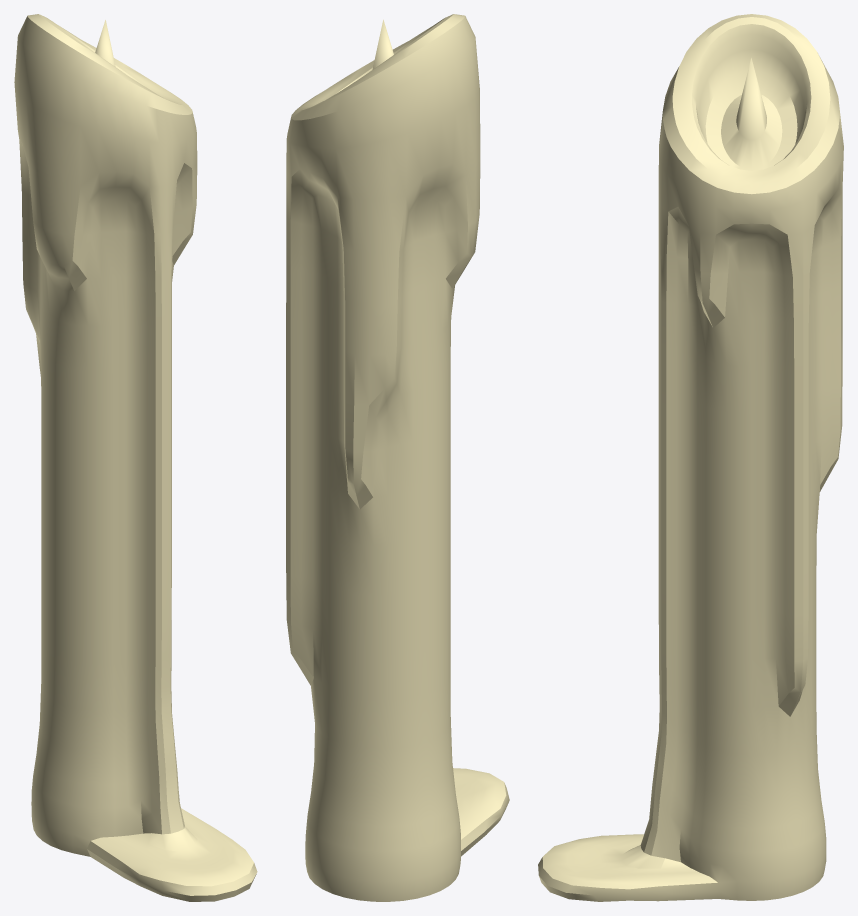
The model's file is large candle.fbx.
3 renders of one model, left to right at view 1: azimuth 30°, elevation 25°; view 2: azimuth 150°, elevation 25°; view 3: azimuth 270°, elevation 25°, orthographic. The views are drawn at different scales.
Visible parts, largest first — view 1: Cameron's tall stupid goddamn candle; view 2: Cameron's tall stupid goddamn candle; view 3: Cameron's tall stupid goddamn candle.
Boxes of the visible parts, x1=… form: Cameron's tall stupid goddamn candle: x1=14, y1=14, x2=257, y2=901; Cameron's tall stupid goddamn candle: x1=286, y1=14, x2=509, y2=901; Cameron's tall stupid goddamn candle: x1=538, y1=14, x2=843, y2=901.
Bounding box in the file's own units: 8.54 × 42.3 × 14.21.
